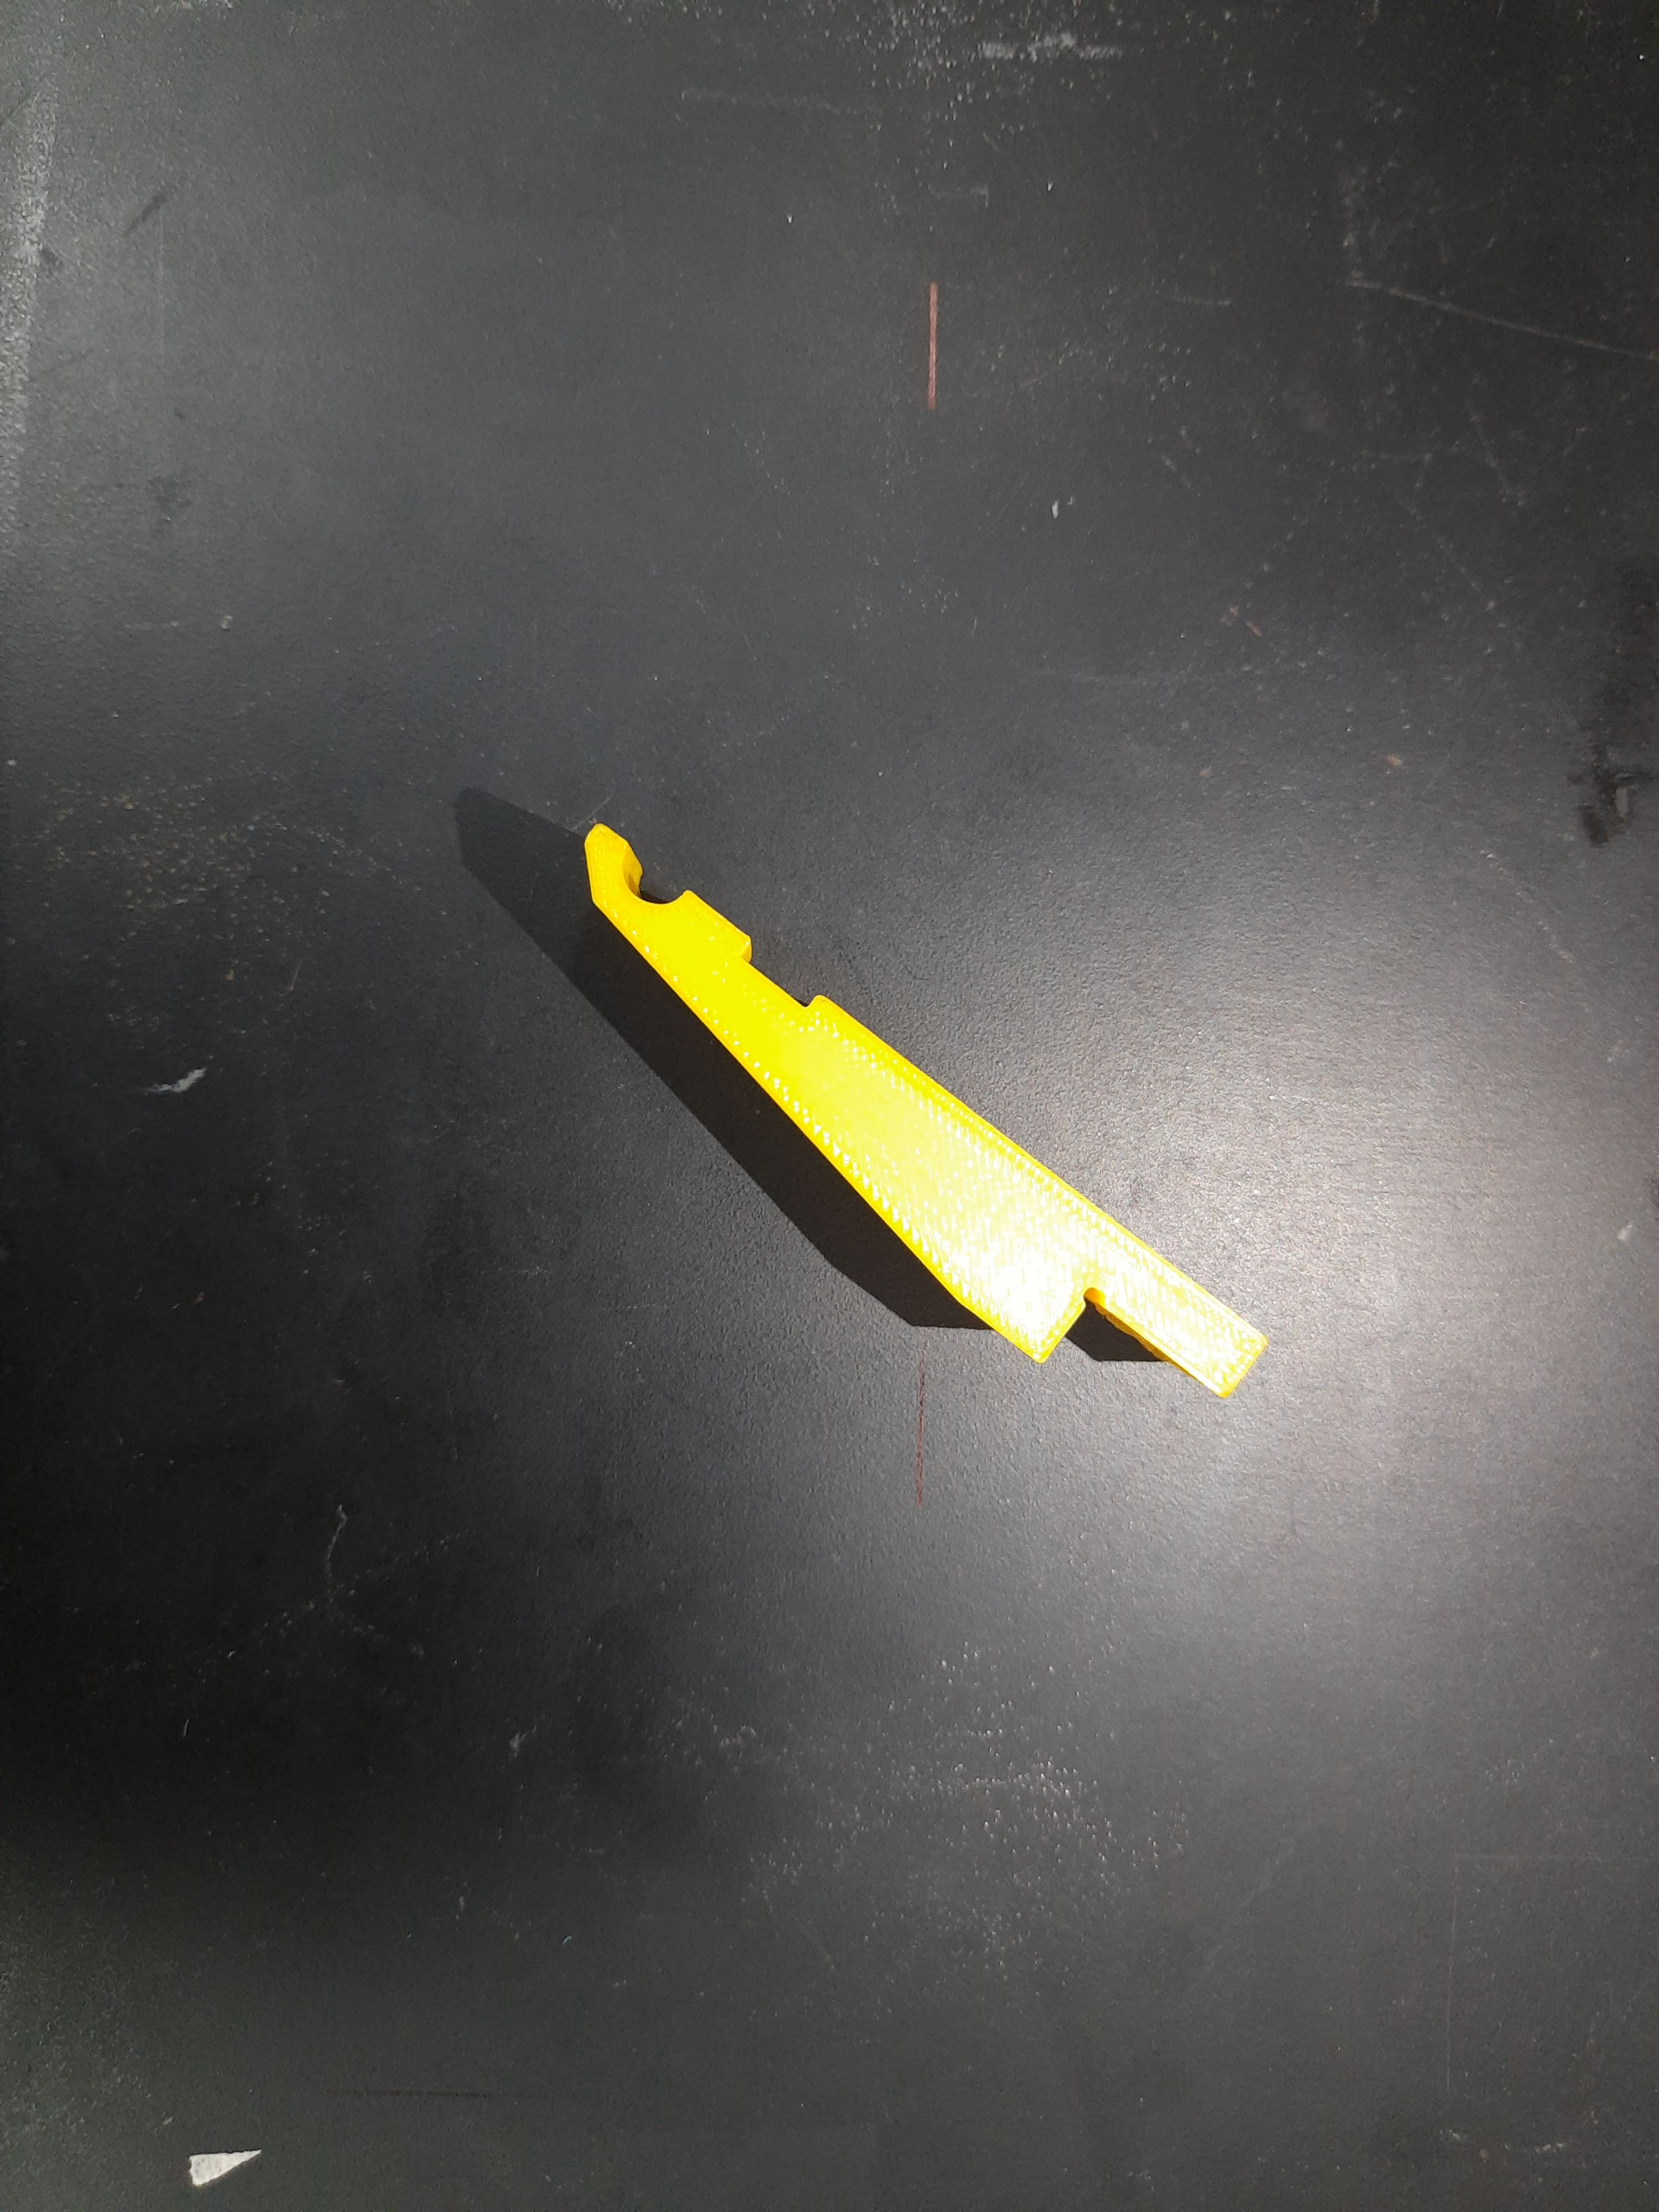YELLOW: (479, 815, 1284, 1480)
